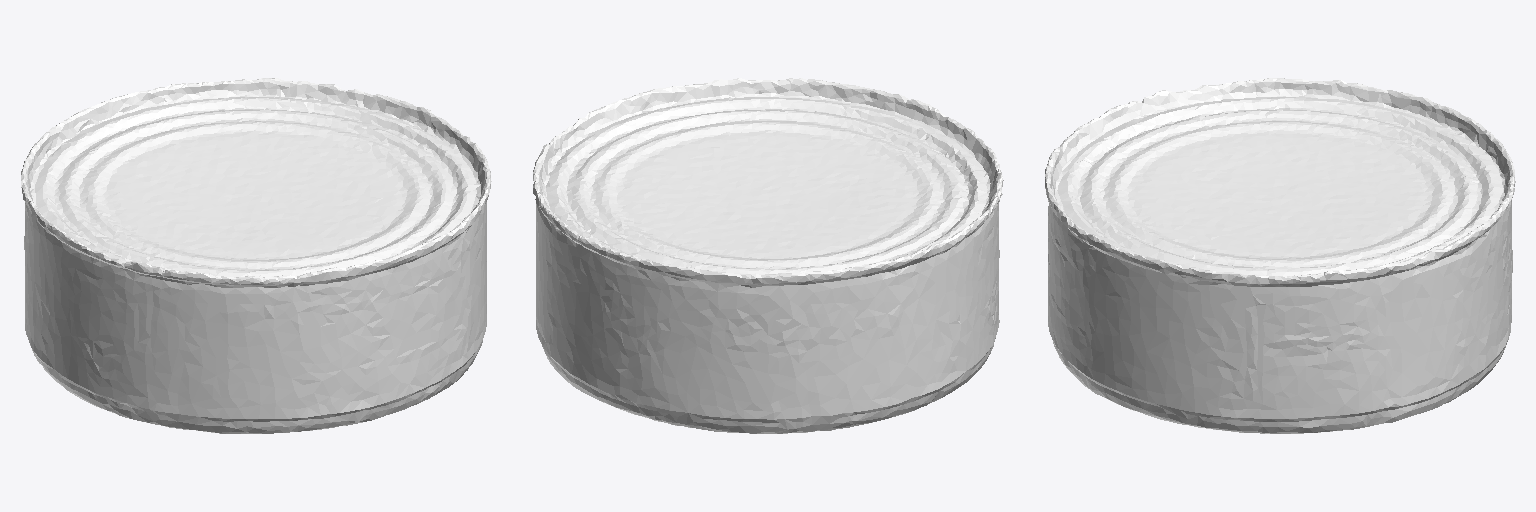
The robot description file, URDF, robot "tuna_fish_can":
<robot name="tuna_fish_can">
    <link name="base_link">
        <visual>
            <origin xyz="0.0 0.0 -0.0" rpy="0.0 0.0 0.0" />
            <geometry>
                <mesh filename="tuna_fish_can/textured.obj" scale="1 1 1" />
            </geometry>
            <material name="texture">
                <color rgba="1.0 1.0 1.0 1.0" />
            </material>
        </visual>
        <collision>
            <origin xyz="0.0 0.0 -0.0" rpy="0.0 0.0 0.0" />
            <geometry>
                <mesh filename="tuna_fish_can/textured_coacd_0.stl" scale="1 1 1" />
            </geometry>
        </collision>
        <collision>
            <origin xyz="0.0 0.0 -0.0" rpy="0.0 0.0 0.0" />
            <geometry>
                <mesh filename="tuna_fish_can/textured_coacd_1.stl" scale="1 1 1" />
            </geometry>
        </collision>
        <collision>
            <origin xyz="0.0 0.0 -0.0" rpy="0.0 0.0 0.0" />
            <geometry>
                <mesh filename="tuna_fish_can/textured_coacd_2.stl" scale="1 1 1" />
            </geometry>
        </collision>
        <collision>
            <origin xyz="0.0 0.0 -0.0" rpy="0.0 0.0 0.0" />
            <geometry>
                <mesh filename="tuna_fish_can/textured_coacd_3.stl" scale="1 1 1" />
            </geometry>
        </collision>
        <collision>
            <origin xyz="0.0 0.0 -0.0" rpy="0.0 0.0 0.0" />
            <geometry>
                <mesh filename="tuna_fish_can/textured_coacd_4.stl" scale="1 1 1" />
            </geometry>
        </collision>
        <inertial>
            <mass value="0.171" />
            <inertia ixx="1e-3" ixy="0.0" ixz="0.0" iyy="1e-3" iyz="0.0" izz="1e-3" />
        </inertial>
    </link>
</robot>

--- Render facts (derived) ---
Views: 3 orthographic renders of the robot side by side, from view 1: azimuth 30°, elevation 25°; view 2: azimuth 150°, elevation 25°; view 3: azimuth 270°, elevation 25°.
Model tuna_fish_can with 1 links and 0 joints (none), rooted at base_link, posed all joints at 0.
Links seen in each view (by area): view 1: base_link; view 2: base_link; view 3: base_link.
Boxes of the visible links, x1,y1,x2,y2 form: base_link: (21,78,491,433); base_link: (533,78,1003,433); base_link: (1045,78,1515,433).
Bounding box of the posed robot: 0.0853 × 0.0853 × 0.0334 m (x, y, z).
Meshes: 1 distinct files referenced, 1 mesh visuals loaded (1 OBJ).